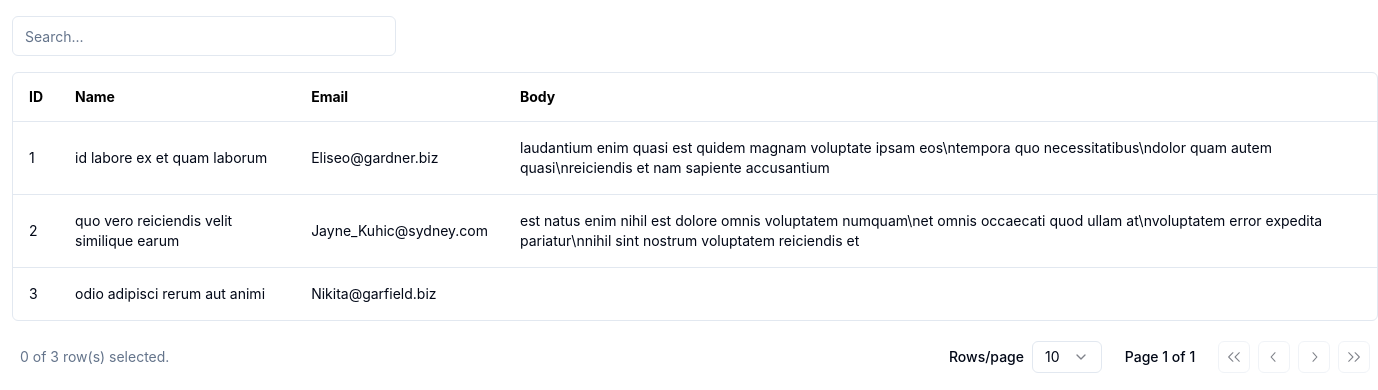
Test: Render table after getting data › search list based on search input
Note: Input Jay into the search box
In the field with placeholder "Search...": (204, 36) [12, 16, 396, 56], type "Jayne_Kuhic"
Wait 500 ms
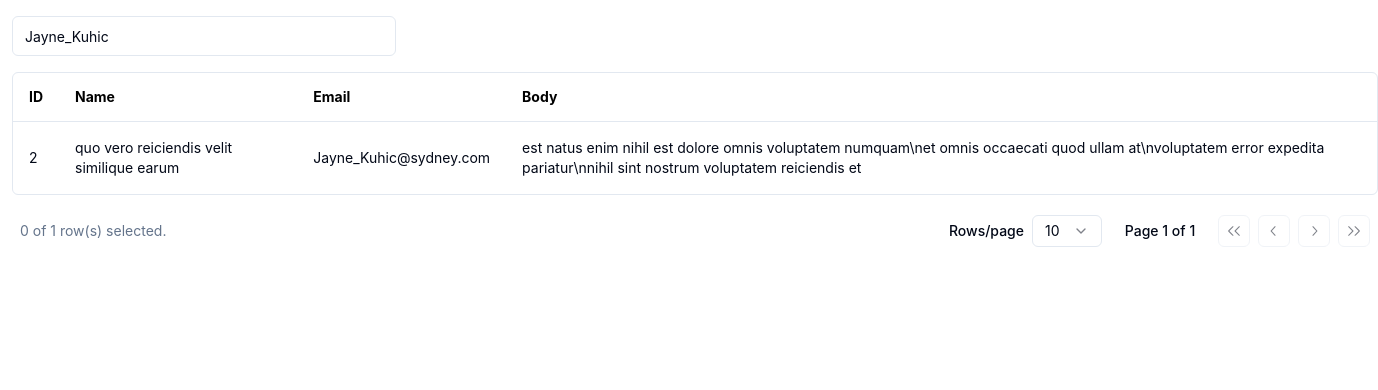
Check: the text "Jayne_Kuhic@sydney.com" is shown, box [297, 121, 506, 194]
Check: the text "Eliseo@gardner.biz" is gone
Note: Clear the search box
Clear the field with placeholder "Search...": (204, 36) [12, 16, 396, 56]
Wait 500 ms
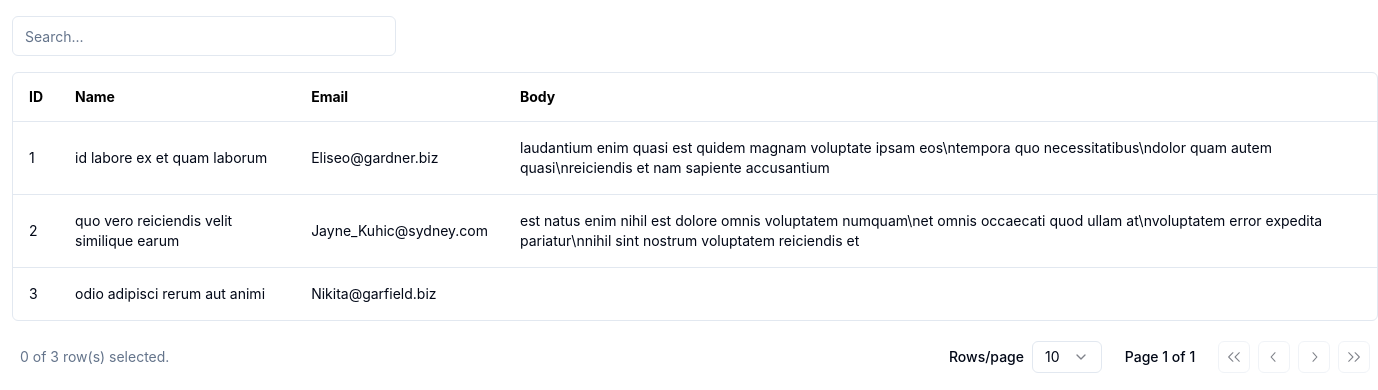
Check: the text "Jayne_Kuhic@sydney.com" is shown, box [295, 194, 504, 267]
Check: the text "Eliseo@gardner.biz" is shown, box [295, 121, 504, 194]
